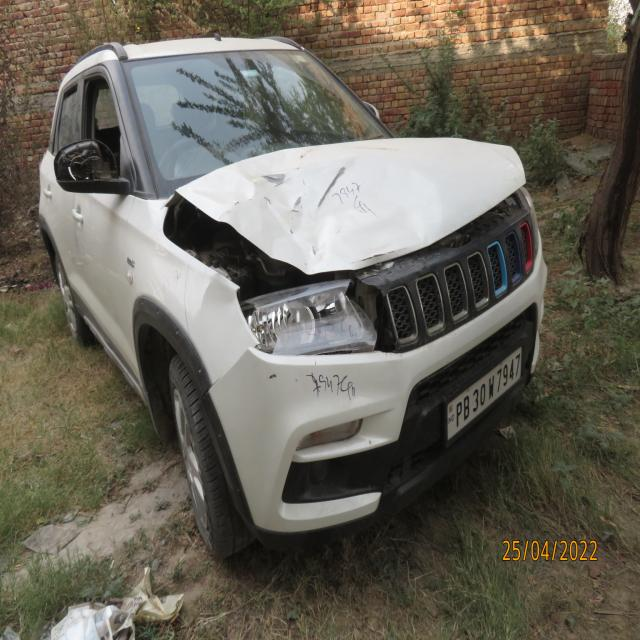damage: (165, 141, 529, 273), (237, 283, 367, 360), (209, 336, 260, 396), (55, 141, 118, 182), (194, 271, 231, 319), (265, 371, 282, 387)
